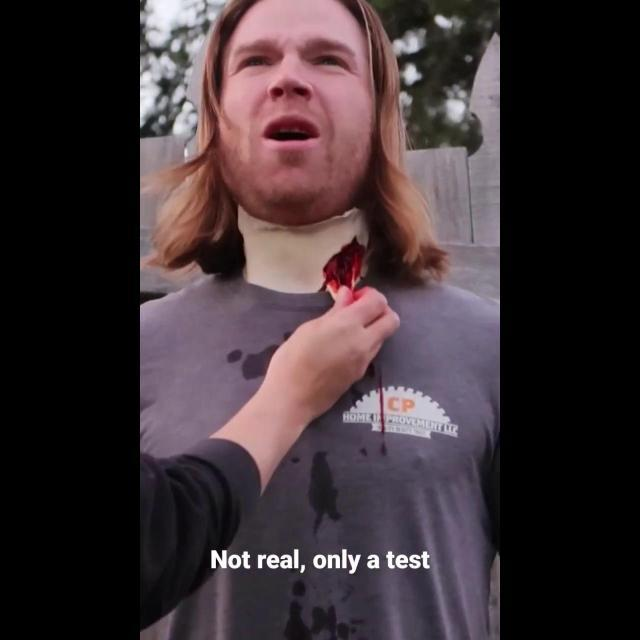blood: (323, 236, 365, 299), (374, 366, 386, 456)
